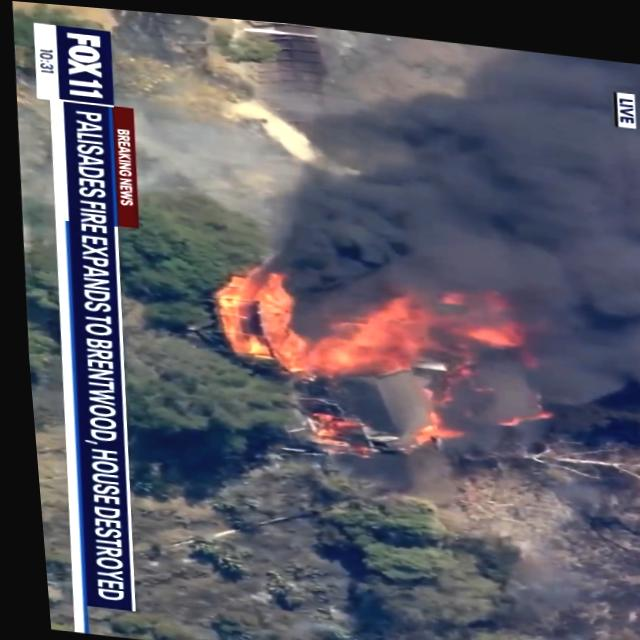Smoke: (266, 82, 640, 309)
